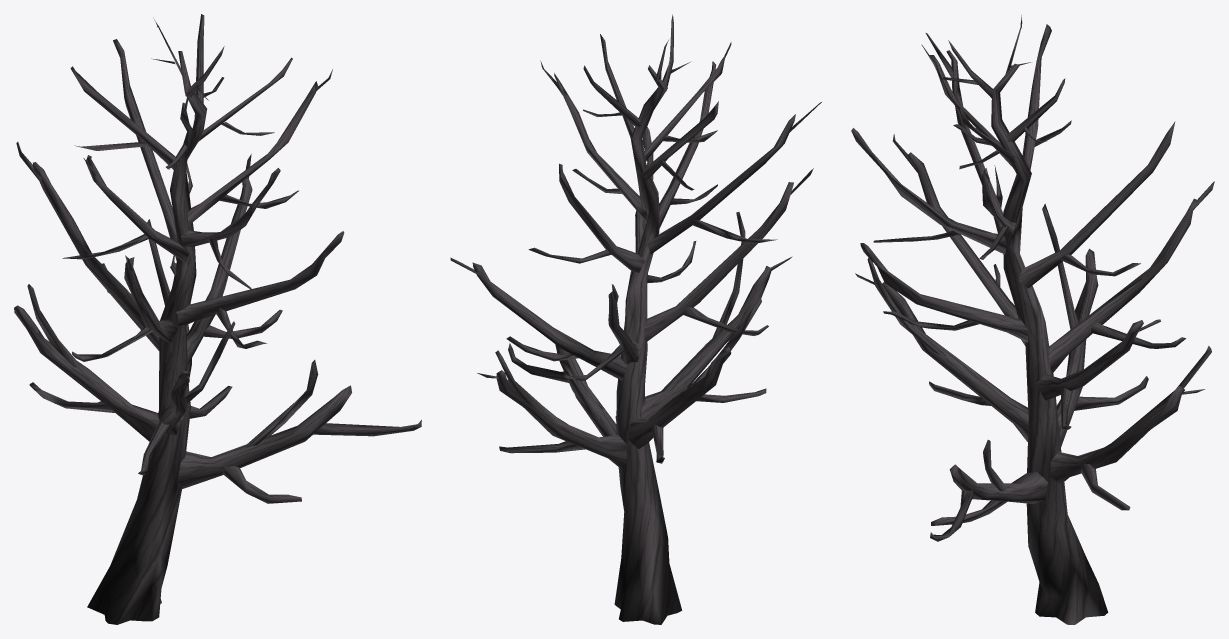
The model's file is dead-tree-2-B_ybFnAP.glb.
3 renders of one model, left to right at view 1: azimuth 30°, elevation 25°; view 2: azimuth 150°, elevation 25°; view 3: azimuth 270°, elevation 25°, orthographic. The views are drawn at different scales.
Visible parts, largest first — view 1: DeadTree_2; view 2: DeadTree_2; view 3: DeadTree_2.
Boxes of the visible parts, box(x1,y1,x2,y2) form: DeadTree_2: box(14, 14, 421, 624); DeadTree_2: box(450, 14, 821, 624); DeadTree_2: box(851, 15, 1214, 624).
Size of the model in its own units: 6.7 by 11.48 by 6.36.
1 material, 1 textured.
